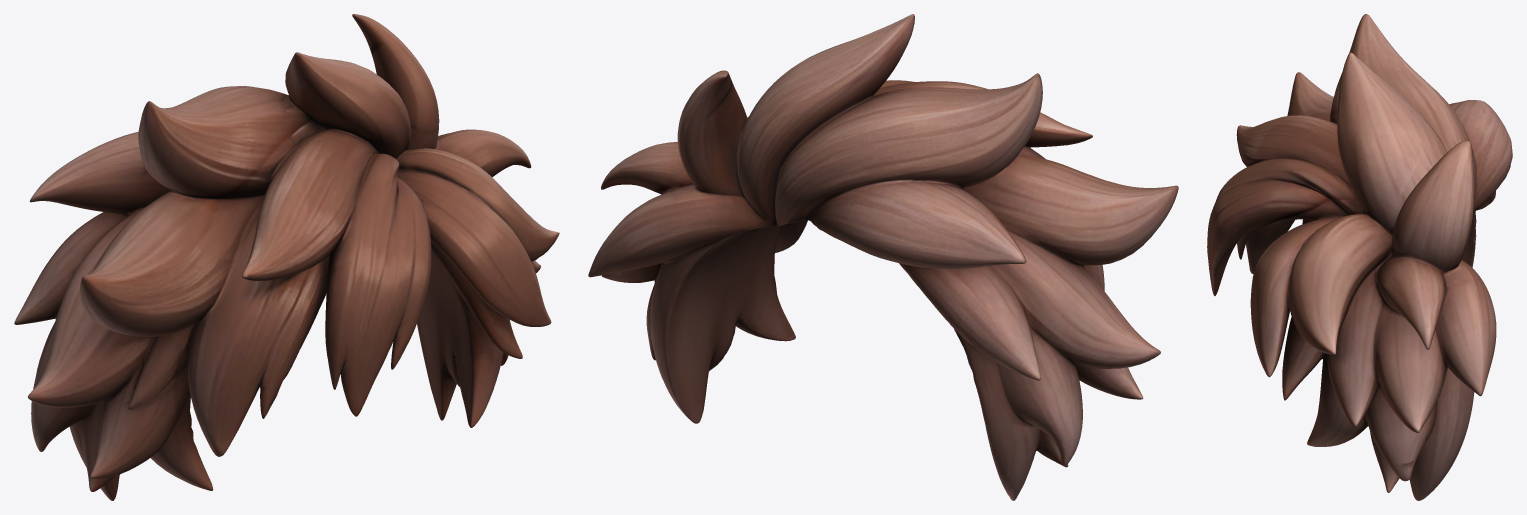
Rendered from hair-spiky.glb.
The picture shows the model from 3 angles, left to right: view 1: azimuth 30°, elevation 25°; view 2: azimuth 150°, elevation 25°; view 3: azimuth 270°, elevation 25°; orthographic projection. The views are drawn at different scales.
Visible parts, largest first — view 1: tripo_node_3474cf0d; view 2: tripo_node_3474cf0d; view 3: tripo_node_3474cf0d.
Part boxes in pixels (left/top/right/bottom): tripo_node_3474cf0d: left=14, top=14, right=559, bottom=500; tripo_node_3474cf0d: left=588, top=14, right=1178, bottom=500; tripo_node_3474cf0d: left=1207, top=14, right=1512, bottom=500.
Bounding box in the file's own units: 97.97 × 75.58 × 56.24.
Materials: 1 (1 with a texture image).
